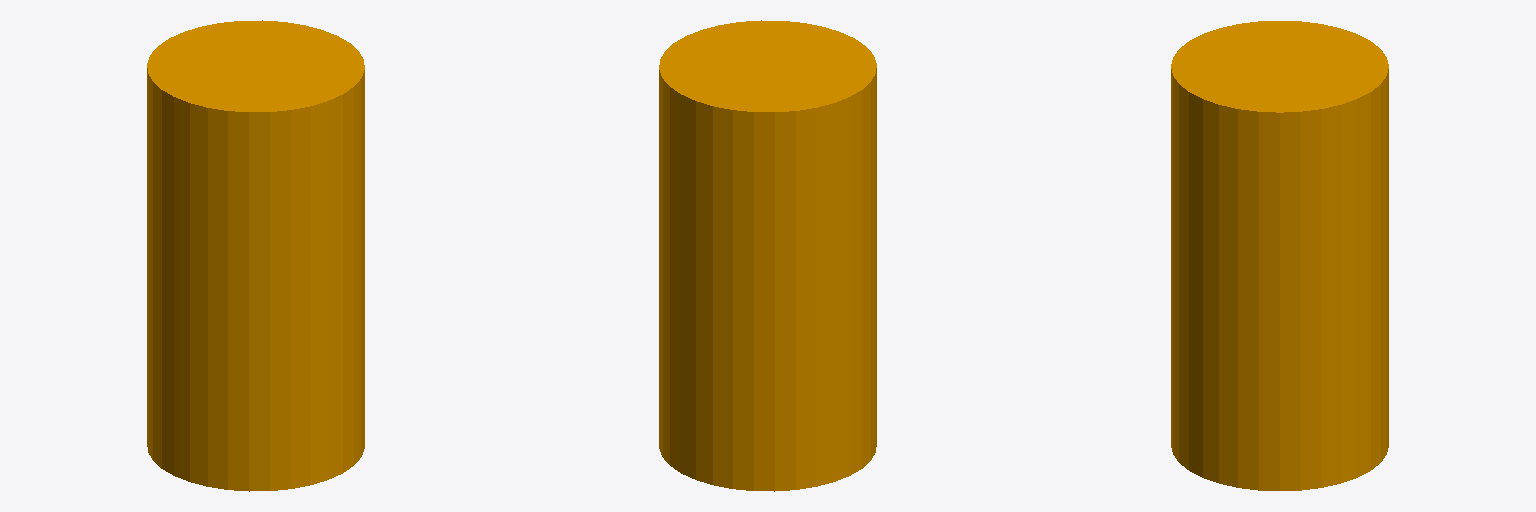
The robot description file, URDF, robot "coke_can":
<?xml version="1.0"?>
<robot name="coke_can">

  <link name="link">
    <collision>
      <origin rpy="0 0 0" xyz="0 0 0"/>
      <geometry>
        <cylinder length="0.115" radius="0.03"/>
      </geometry>
    </collision>
    <contact>
      <rolling_friction value="0.03"/>
      <spinning_friction value="0.03"/>
      <lateral_friction value="3.0"/>
      <stiffness value="300"/>
      <damping value="50"/>
    </contact>
    <visual>
      <origin rpy="0 0 0" xyz="0 0 0"/>
      <geometry>
        <cylinder length="0.115" radius="0.03"/>
      </geometry>
    </visual>
  </link>
</robot>

--- Render facts (derived) ---
3 views of the same robot in one strip: view 1: azimuth 30°, elevation 25°; view 2: azimuth 150°, elevation 25°; view 3: azimuth 270°, elevation 25° (orthographic).
Model coke_can with 1 links and 0 joints (none), rooted at link, posed every joint at zero.
Links seen in each view (by area): view 1: link; view 2: link; view 3: link.
Boxes of the visible links, x1,y1,x2,y2 form: link: [147, 20, 364, 491]; link: [659, 20, 876, 491]; link: [1171, 21, 1388, 490].
Bounding box of the posed robot: 0.06 × 0.06 × 0.115 m (x, y, z).
Geometry: primitives only (box / cylinder / sphere), no mesh files.